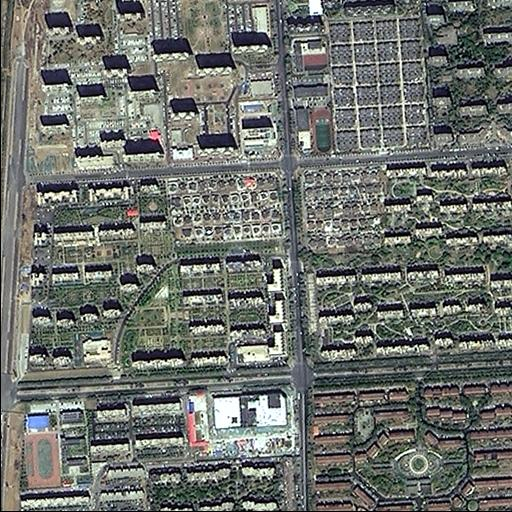school: (15, 395, 91, 492), (282, 34, 335, 159)
